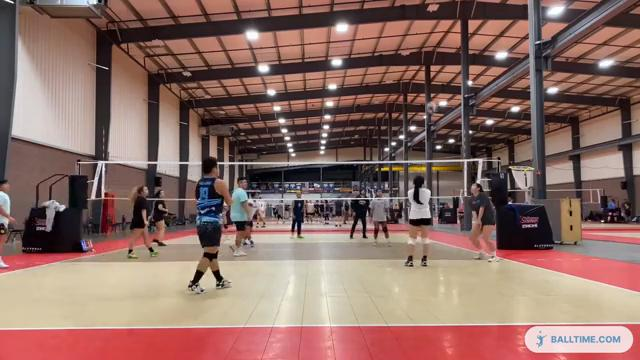Dig: (462, 181, 501, 263)
Player: (188, 157, 231, 293), (405, 176, 431, 266), (127, 186, 157, 258), (230, 177, 251, 256), (0, 179, 14, 268), (370, 190, 390, 245), (151, 189, 167, 245), (350, 192, 368, 238), (291, 192, 304, 238)
ball: (426, 102, 435, 113)
